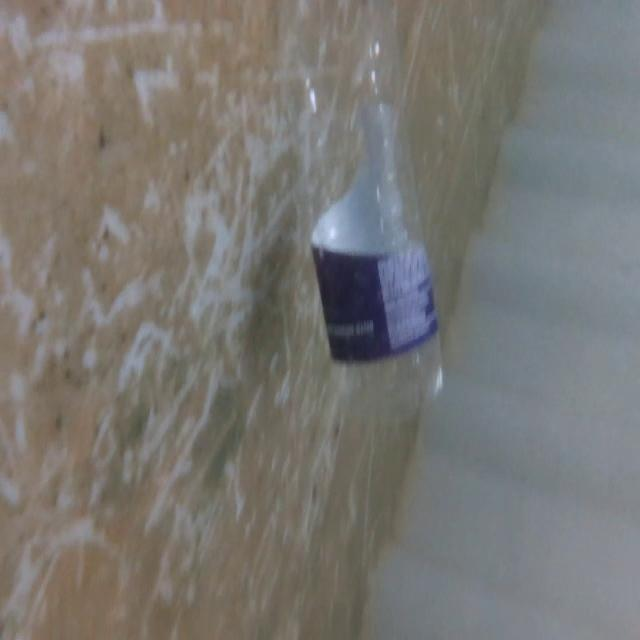plastic bottle: (258, 0, 447, 441)
